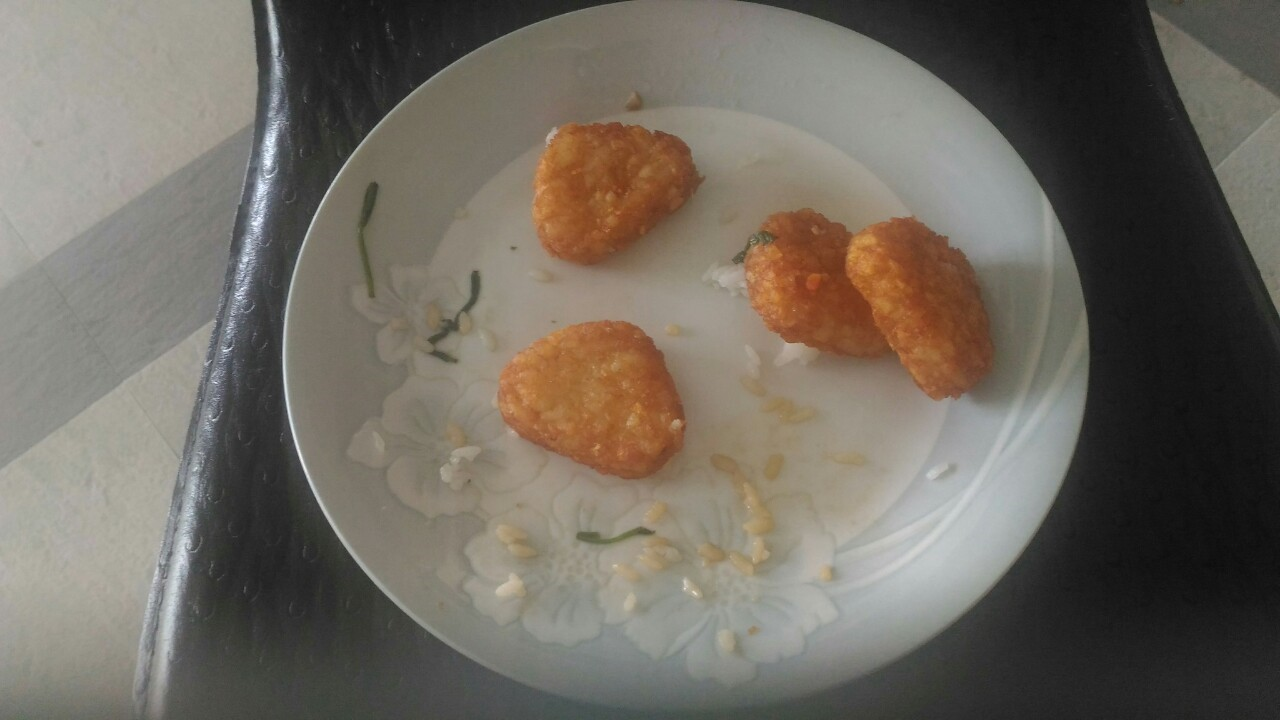triangle_hash_brown: (745, 206, 998, 397), (492, 316, 687, 476), (533, 117, 699, 264)
